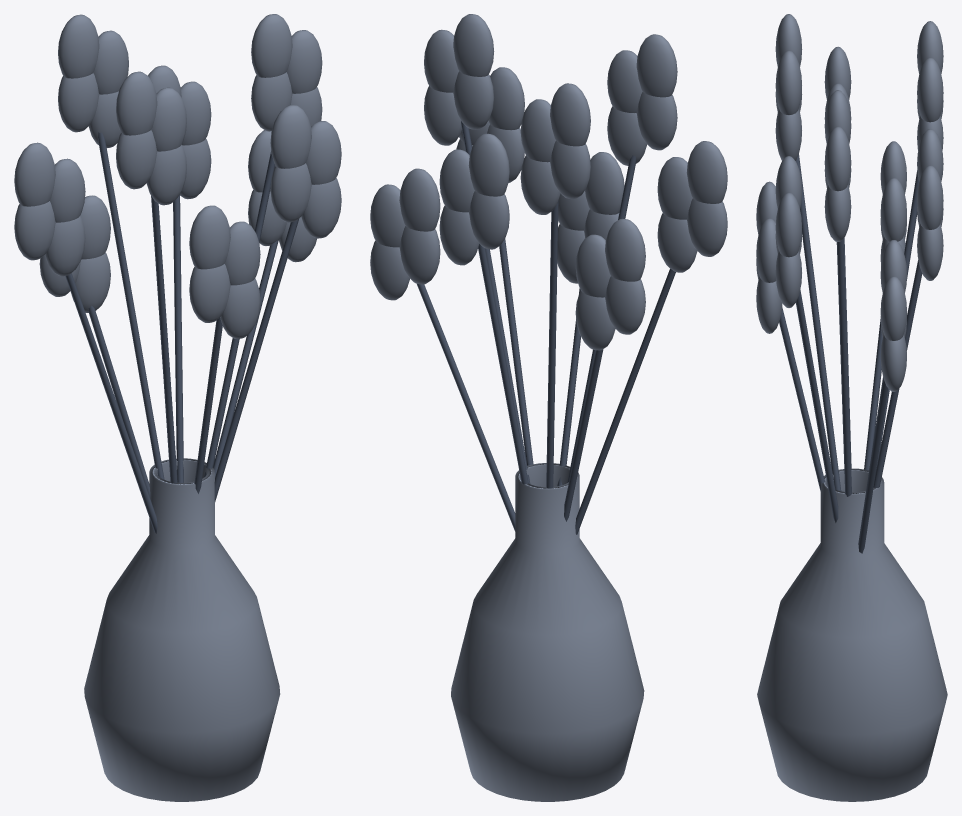
The model's file is dried-flowers.glb.
3 renders of one model, left to right at view 1: azimuth 30°, elevation 25°; view 2: azimuth 150°, elevation 25°; view 3: azimuth 270°, elevation 25°, orthographic. The views are drawn at different scales.
Visible parts, largest first — view 1: accent, body, dark; view 2: accent, body, dark; view 3: body, accent, dark.
Boxes of the visible parts, x1,y1,x2,y2 form: accent: (14, 14, 341, 338); body: (84, 458, 280, 801); dark: (65, 132, 299, 533); accent: (370, 14, 727, 350); body: (451, 463, 644, 801); dark: (417, 121, 675, 534); body: (757, 468, 947, 801); accent: (756, 14, 943, 391); dark: (779, 154, 922, 553).
Bounding box in the file's own units: 0.2688 × 0.5732 × 0.1386.
